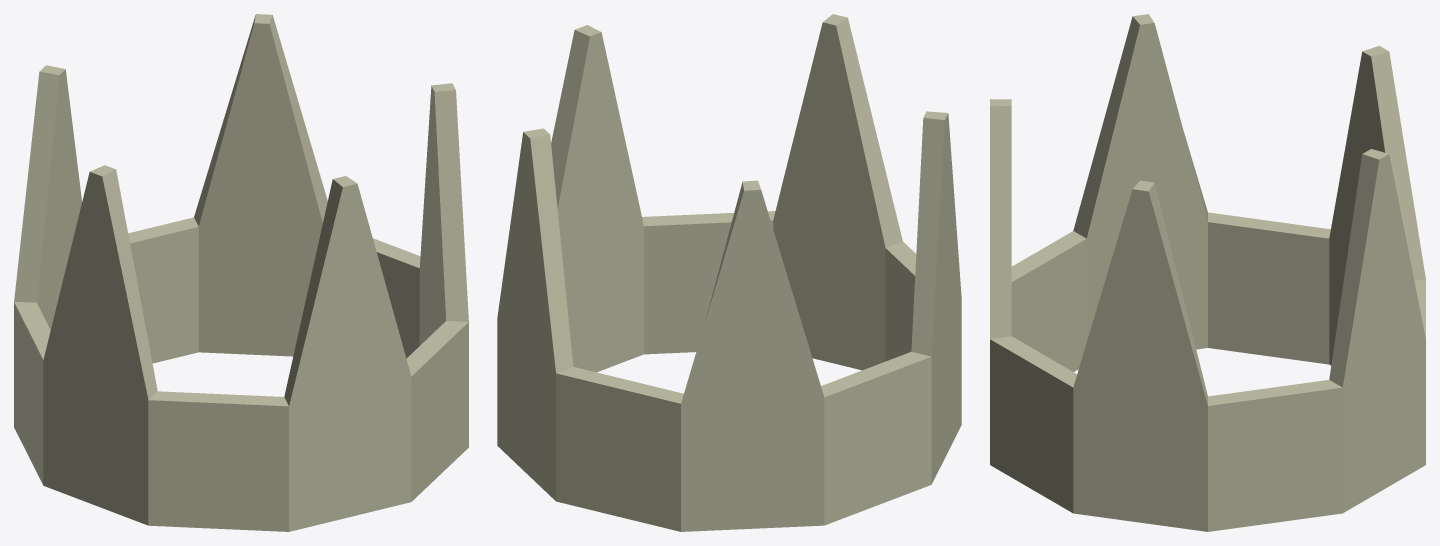
File: Crown.fbx
3 views of the same model, side by side, from view 1: azimuth 30°, elevation 25°; view 2: azimuth 150°, elevation 25°; view 3: azimuth 270°, elevation 25° (orthographic). The views are drawn at different scales.
Visible parts, largest first — view 1: Crown; view 2: Crown; view 3: Crown.
Boxes of the visible parts, left/top/right/bottom form: Crown: left=14, top=14, right=468, bottom=531; Crown: left=497, top=14, right=961, bottom=531; Crown: left=990, top=14, right=1425, bottom=531.
Bounding box in the file's own units: 87.77 × 70.22 × 83.47.
